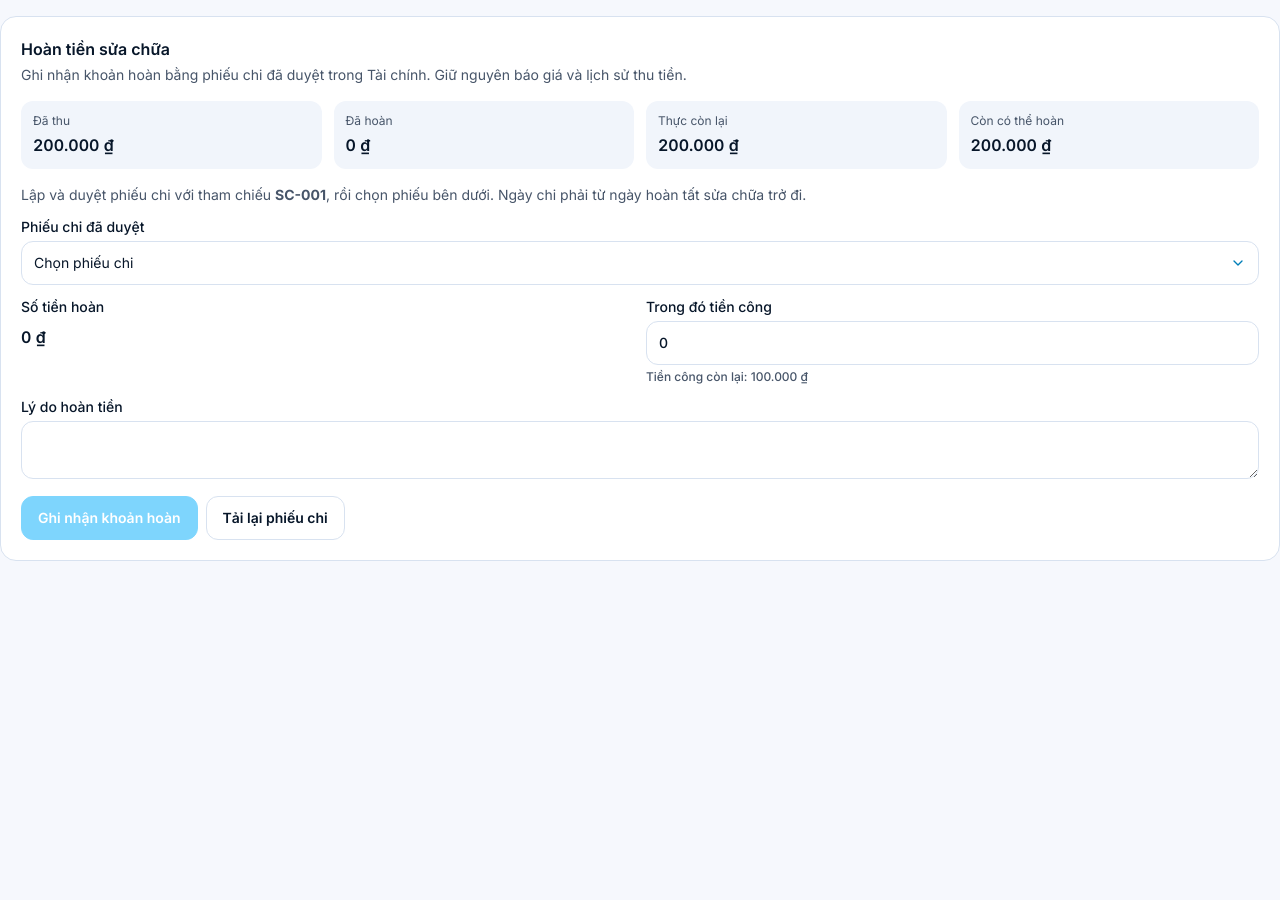
Test: repair refund form › restores a request created in another tab without submitting a different intent automatically
Click the button with aria-label "Phiếu chi đã duyệt" at (84, 262), box [21,241,1259,285]
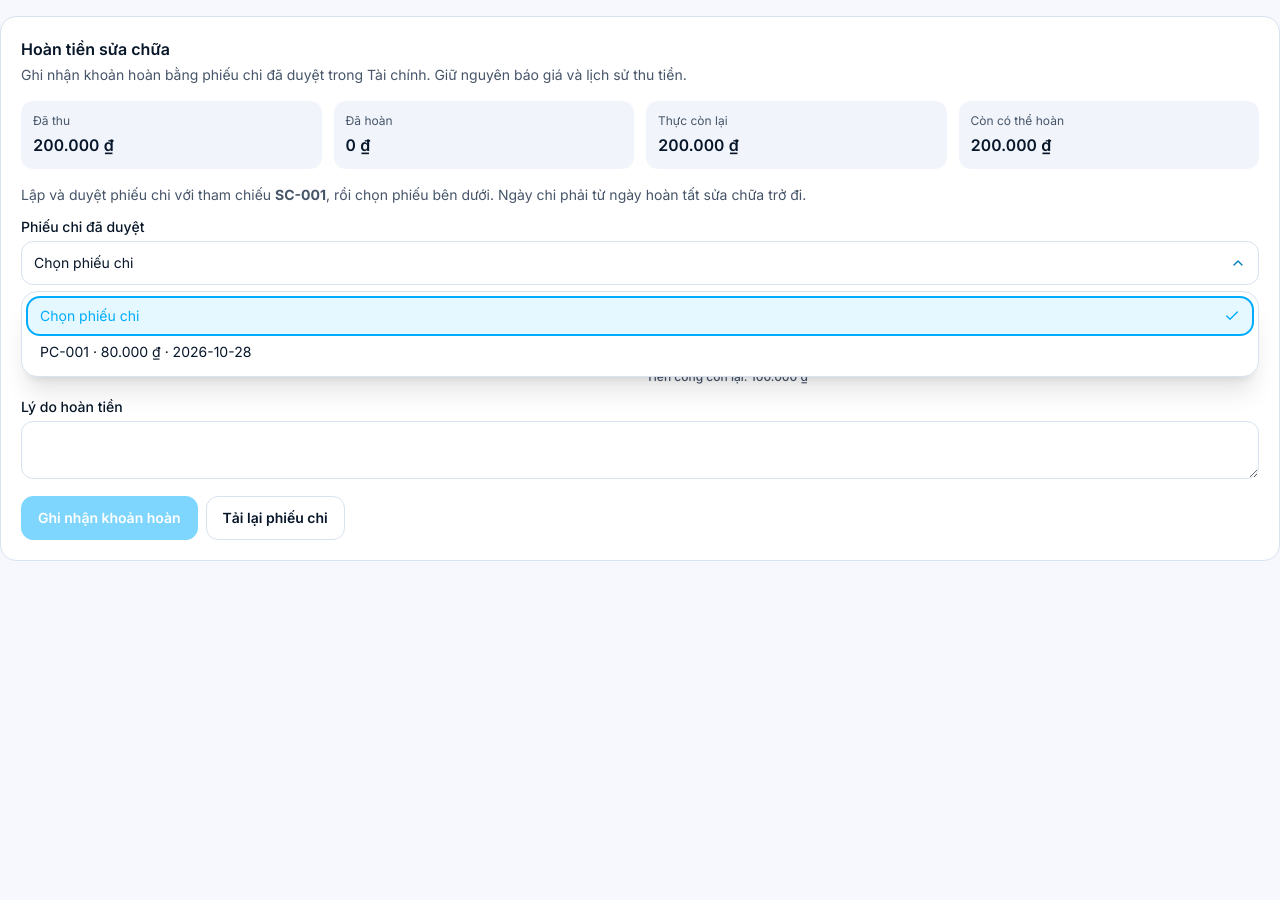
Click the option "PC-001 · 80.000 ₫ · 2026-10-28" at (146, 352), box [28,334,1252,370]
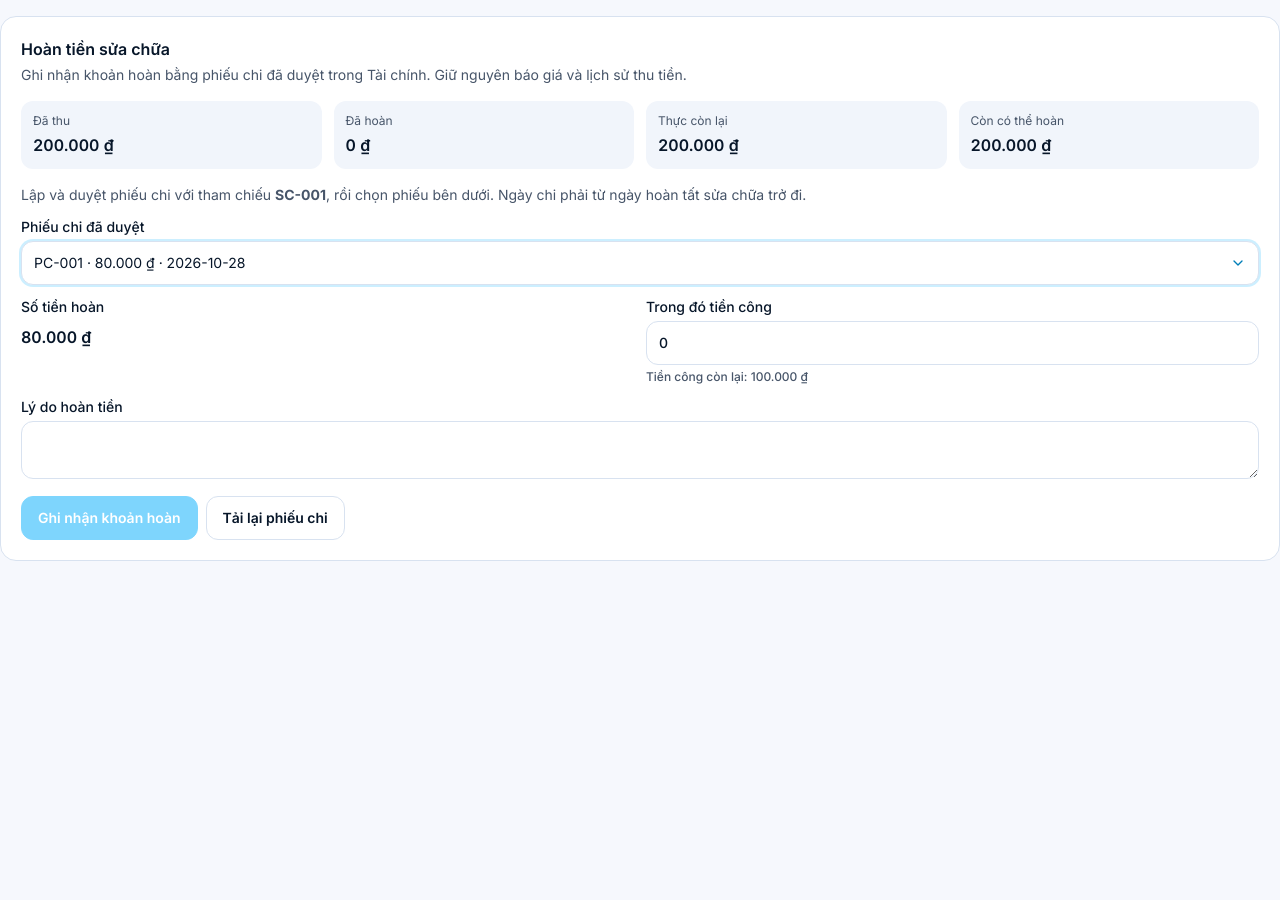
Replace the text in the number field labelled "Trong đó tiền công Tiền công còn lại: 100.000 ₫" with "40000" at (952, 343), box [646,321,1259,365]
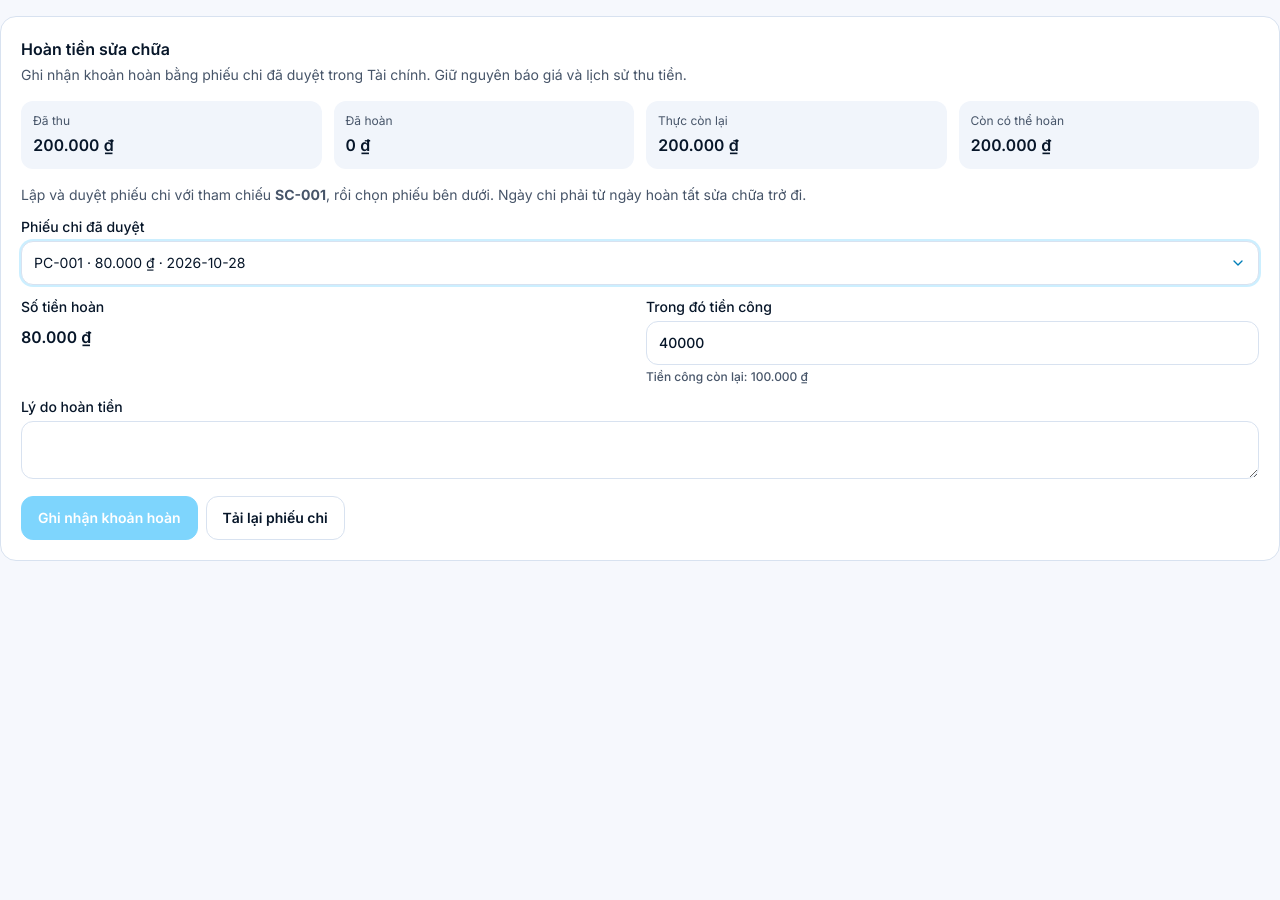
Type "Hoàn dịch vụ" into the text box labelled "Lý do hoàn tiền" at (640, 450), box [21,421,1259,479]
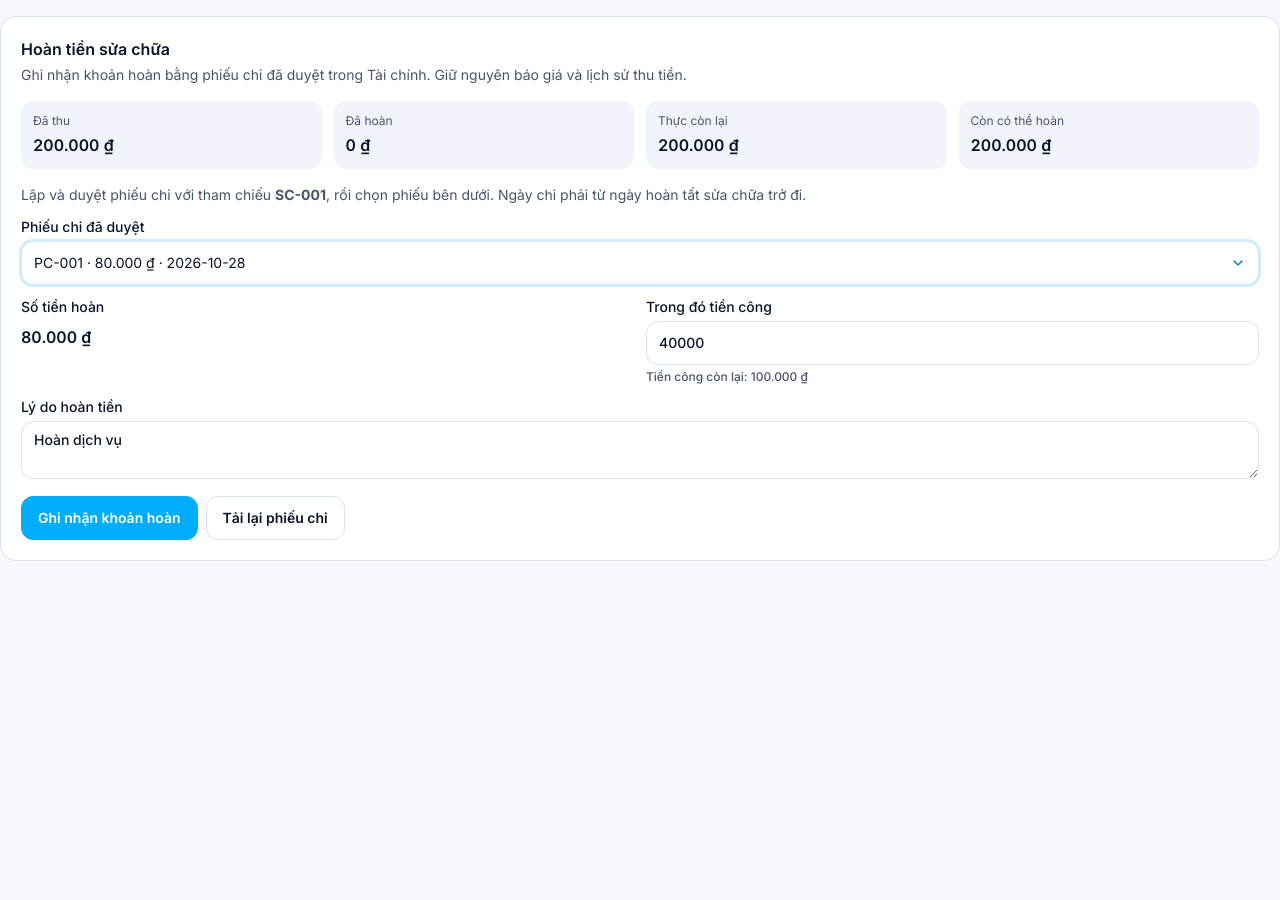
Click the button "Ghi nhận khoản hoàn" at (109, 518), box [21,496,198,540]
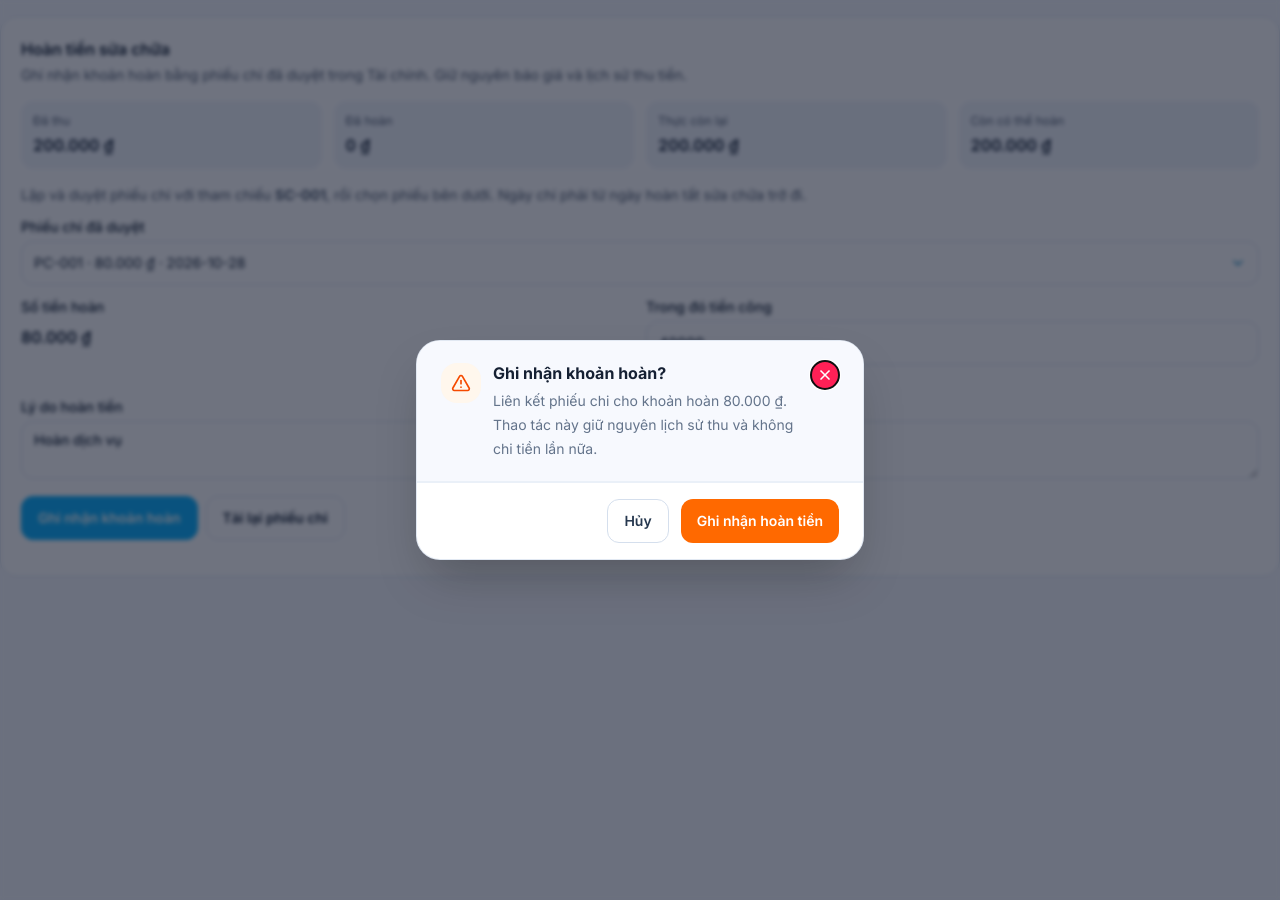
Click the button "Ghi nhận hoàn tiền" at (760, 521), box [681,499,839,543]
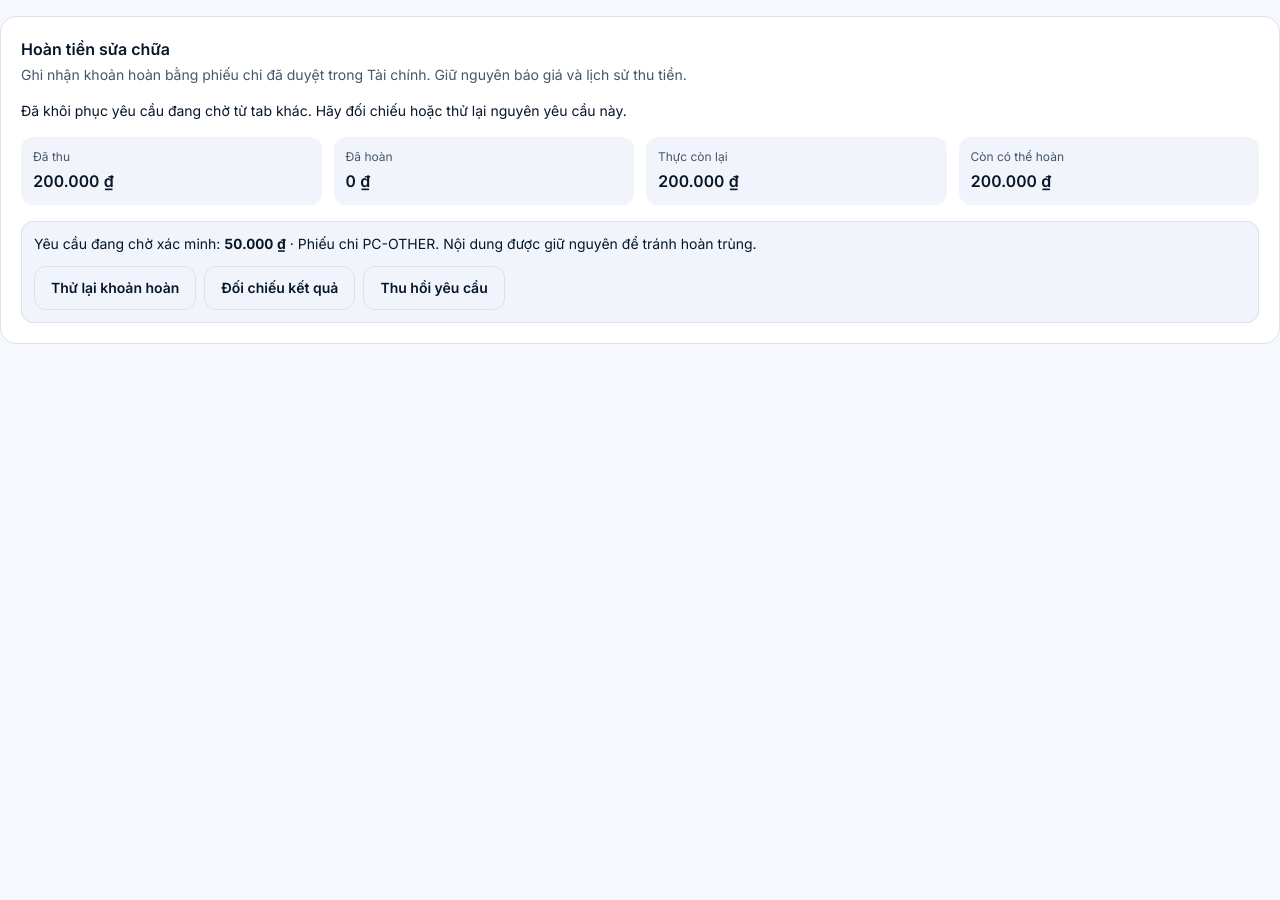
Expected: the text "Đã khôi phục yêu cầu đang chờ" is shown, [21,102,627,119]
